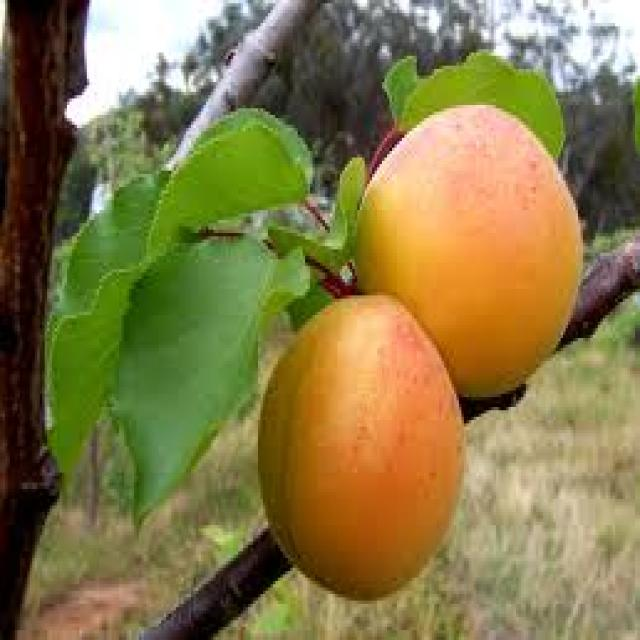kayisi: (354, 100, 588, 404), (259, 295, 461, 603)
yaprak: (54, 108, 314, 464), (112, 230, 312, 543), (380, 51, 566, 151)
